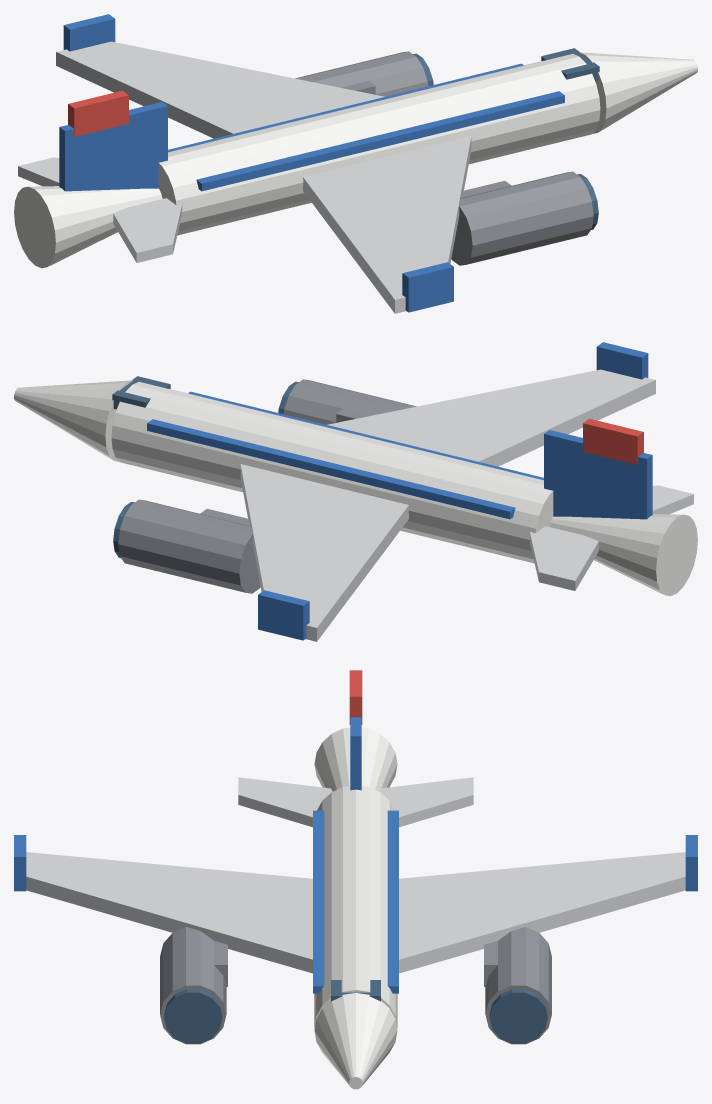
3 views of the same model, one above another, from view 1: azimuth 30°, elevation 25°; view 2: azimuth 150°, elevation 25°; view 3: azimuth 270°, elevation 25° (orthographic).
Parts seen in each view (by area): view 1: plane_body, plane_wing_l, plane_wing_r, plane_engine_-1, plane_fin, plane_tail_cone, plane_stripe, plane_nose, plane_stab_l, plane_engine_1, plane_winglet_-1, plane_fin_top (+3 smaller); view 2: plane_body, plane_wing_r, plane_wing_l, plane_engine_1, plane_fin, plane_tail_cone, plane_stripe, plane_nose, plane_stab_r, plane_engine_-1, plane_winglet_1, plane_fin_top (+3 smaller); view 3: plane_wing_l, plane_wing_r, plane_body, plane_nose, plane_stripe, plane_engine_1, plane_engine_-1, plane_tail_cone, plane_stab_l, plane_stab_r, plane_fan_1, plane_fan_-1 (+4 smaller).
Boxes of the visible parts, x1=… form: plane_body: x1=158, y1=54, x2=600, y2=235; plane_wing_l: x1=303, y1=136, x2=471, y2=313; plane_wing_r: x1=56, y1=41, x2=384, y2=138; plane_engine_-1: x1=451, y1=171, x2=593, y2=265; plane_fin: x1=59, y1=102, x2=167, y2=191; plane_tail_cone: x1=14, y1=186, x2=162, y2=268; plane_stripe: x1=168, y1=63, x2=564, y2=191; plane_nose: x1=578, y1=52, x2=697, y2=133; plane_stab_l: x1=113, y1=198, x2=182, y2=262; plane_engine_1: x1=295, y1=51, x2=428, y2=96; plane_winglet_-1: x1=402, y1=262, x2=453, y2=312; plane_fin_top: x1=68, y1=90, x2=128, y2=136; plane_body: x1=111, y1=382, x2=553, y2=563; plane_wing_r: x1=240, y1=464, x2=408, y2=641; plane_wing_l: x1=327, y1=369, x2=655, y2=466; plane_engine_1: x1=118, y1=499, x2=260, y2=593; plane_fin: x1=544, y1=430, x2=652, y2=519; plane_tail_cone: x1=549, y1=514, x2=697, y2=596; plane_stripe: x1=147, y1=391, x2=543, y2=519; plane_nose: x1=14, y1=380, x2=133, y2=461; plane_stab_r: x1=529, y1=526, x2=598, y2=590; plane_engine_-1: x1=283, y1=379, x2=416, y2=424; plane_winglet_1: x1=258, y1=590, x2=309, y2=640; plane_fin_top: x1=583, y1=418, x2=643, y2=464; plane_wing_l: x1=26, y1=852, x2=312, y2=973; plane_wing_r: x1=399, y1=852, x2=685, y2=973; plane_body: x1=314, y1=786, x2=397, y2=1027; plane_nose: x1=314, y1=993, x2=397, y2=1089; plane_stripe: x1=313, y1=810, x2=398, y2=993; plane_engine_1: x1=485, y1=927, x2=551, y2=1044; plane_engine_-1: x1=160, y1=927, x2=226, y2=1044; plane_tail_cone: x1=314, y1=727, x2=397, y2=791; plane_stab_l: x1=238, y1=777, x2=332, y2=827; plane_stab_r: x1=379, y1=777, x2=473, y2=827; plane_fan_1: x1=489, y1=989, x2=547, y2=1043; plane_fan_-1: x1=164, y1=989, x2=222, y2=1043.
Size of the model in its own units: 1.09 by 0.2693 by 0.988.
